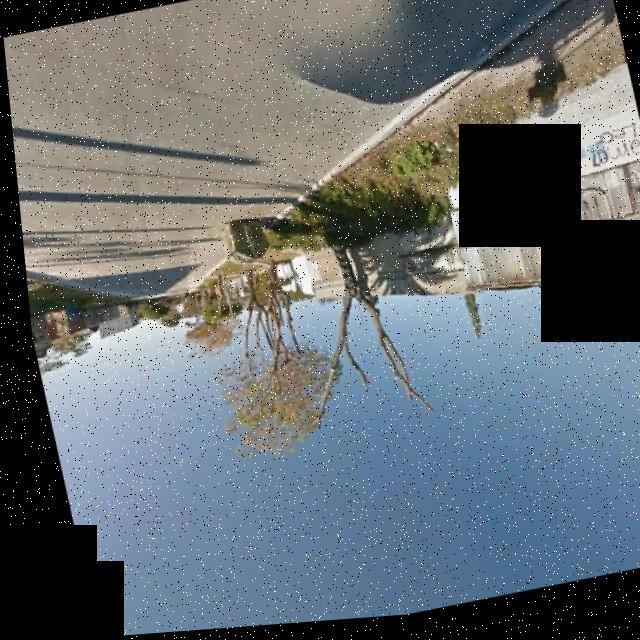bin: (202, 207, 272, 278)
